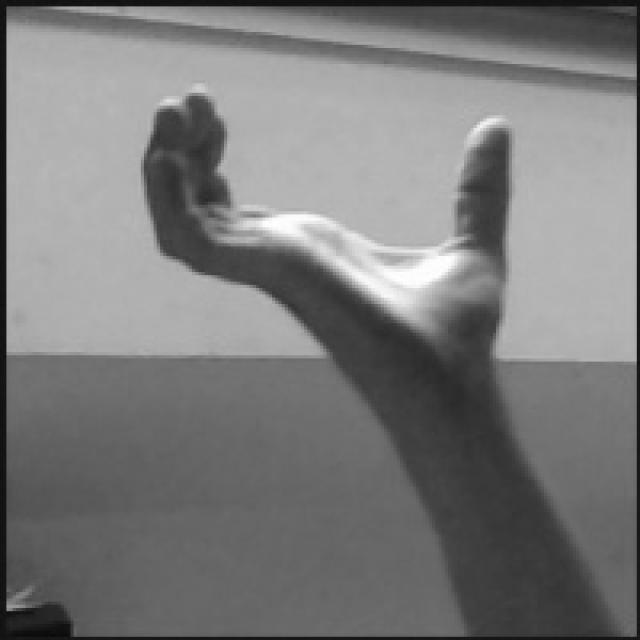space: (133, 79, 514, 362)
